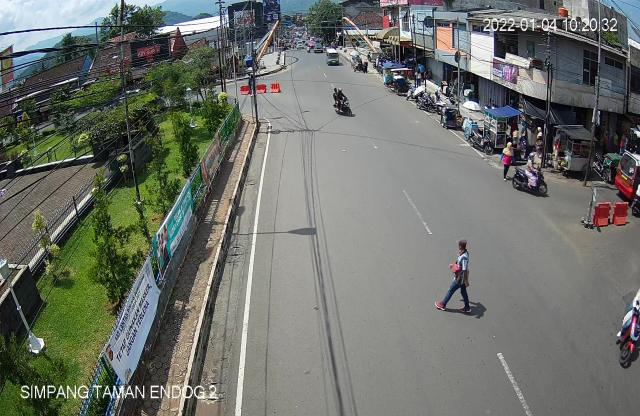Motor: (509, 152, 552, 200), (327, 84, 362, 122)
